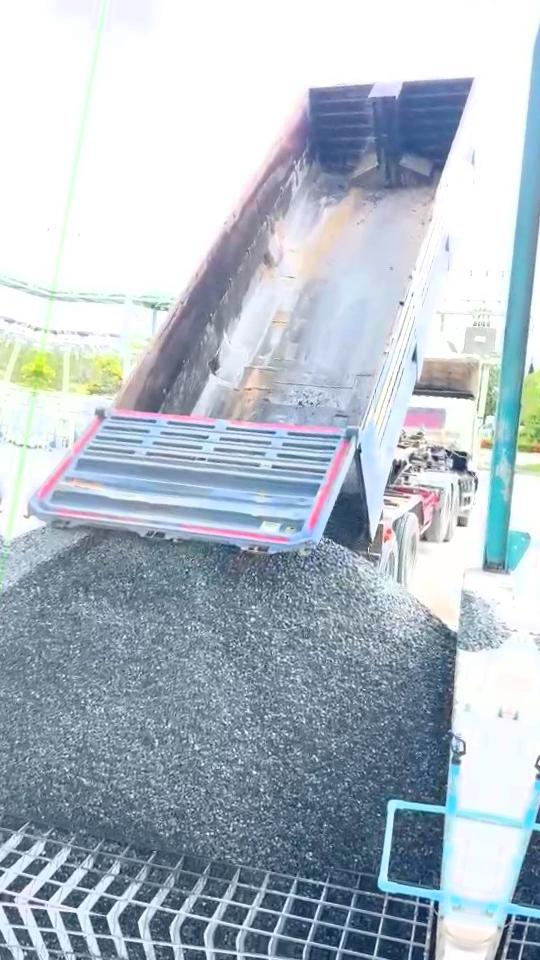gravel: (0, 534, 455, 872), (1, 526, 84, 593), (460, 591, 514, 651), (392, 817, 441, 881)
